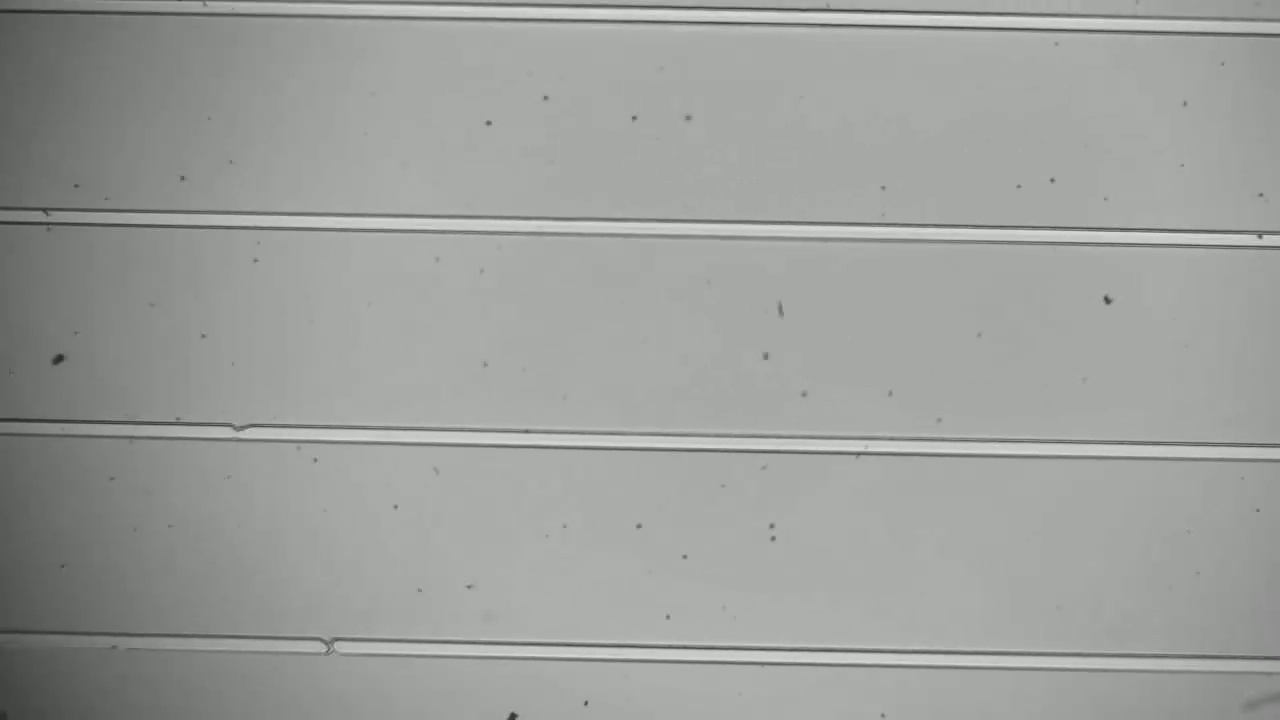edge_bite: (222, 418, 252, 450)
open: (315, 630, 344, 664)
